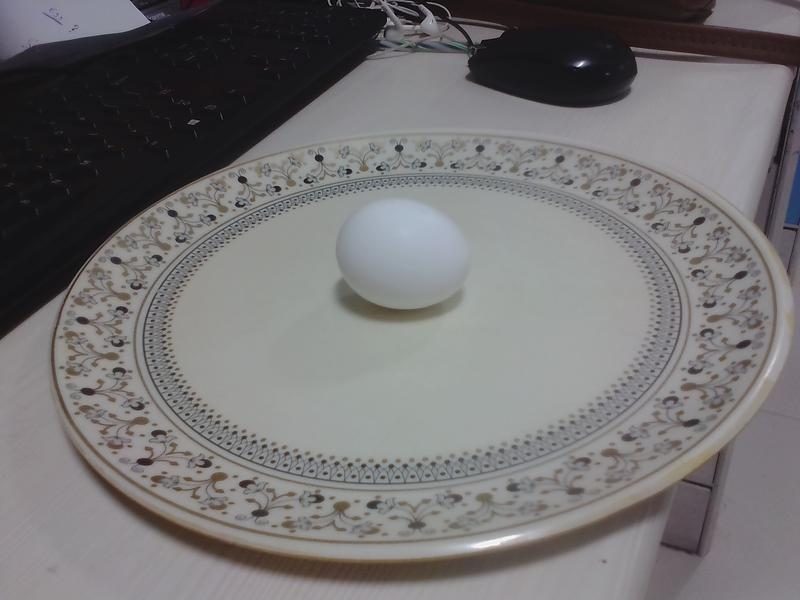egg: (338, 200, 470, 312)
